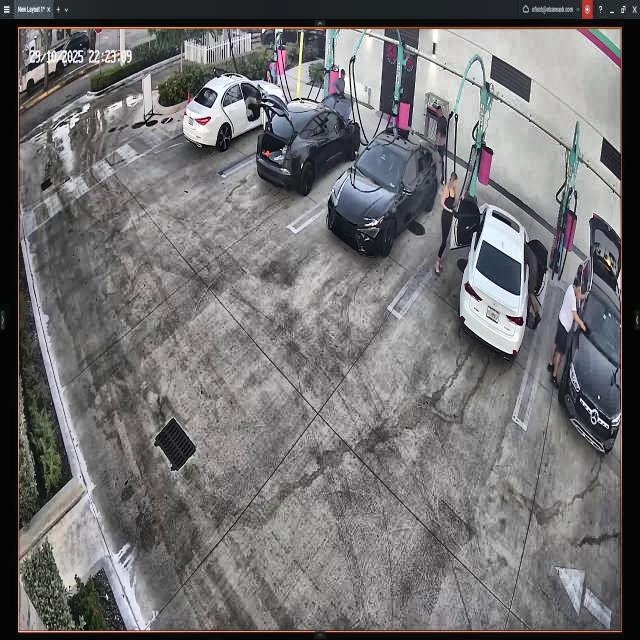Car: (328, 126, 437, 256), (453, 193, 536, 353), (258, 90, 358, 196), (184, 72, 286, 152)
